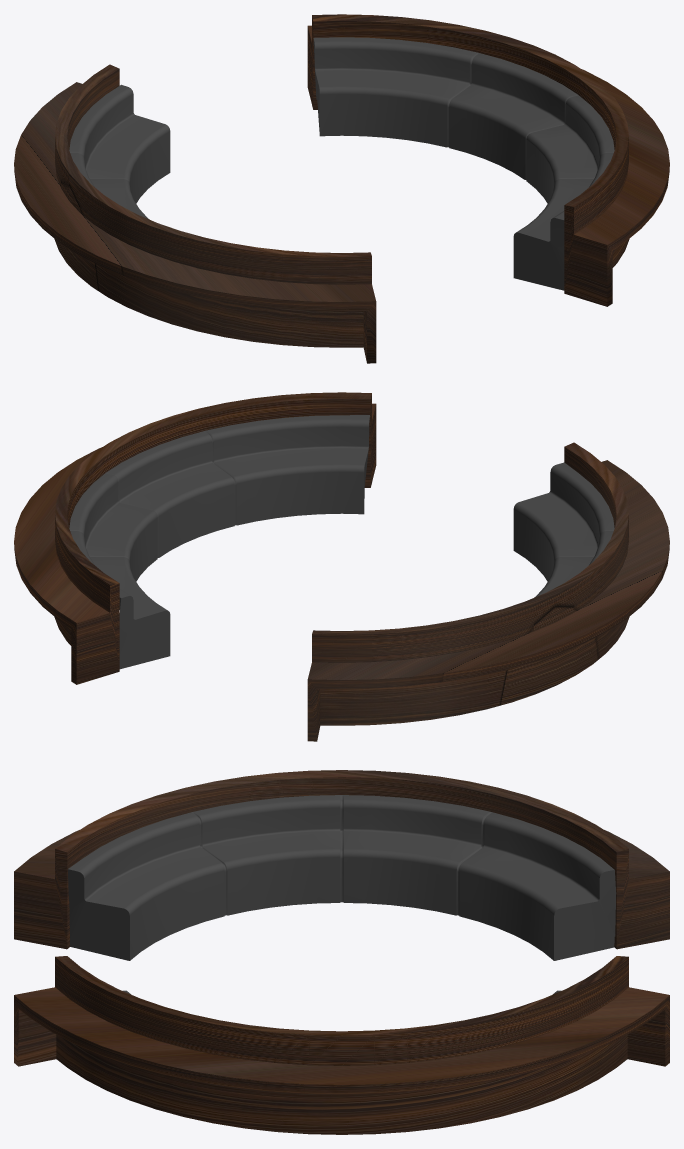
File: Couch_cirlce.fbx
The picture shows the model from 3 angles, top to bottom: view 1: azimuth 30°, elevation 25°; view 2: azimuth 150°, elevation 25°; view 3: azimuth 270°, elevation 25°; orthographic projection. The views are drawn at different scales.
Visible parts, largest first — view 1: CircleDesk, couch_Circle; view 2: CircleDesk, couch_Circle; view 3: CircleDesk, couch_Circle.
Boxes of the visible parts, x1=… form: CircleDesk: x1=14, y1=14, x2=669, y2=363; couch_Circle: x1=69, y1=37, x2=614, y2=290; CircleDesk: x1=14, y1=392, x2=669, y2=741; couch_Circle: x1=69, y1=415, x2=614, y2=669; CircleDesk: x1=14, y1=770, x2=669, y2=1134; couch_Circle: x1=68, y1=795, x2=616, y2=994.
Size of the model in its own units: 245 by 36.97 by 224.
